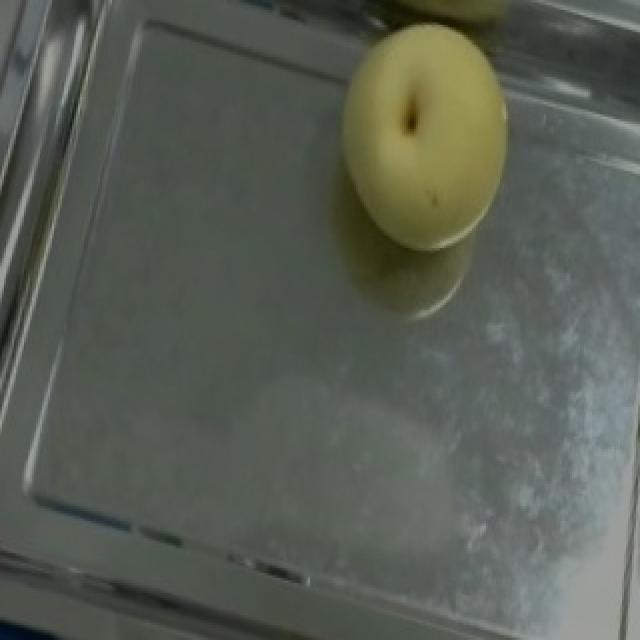Fruit: (294, 0, 546, 283)
